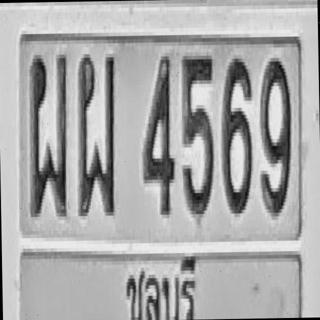A28: (27, 49, 70, 218), (75, 50, 118, 216)
N04: (142, 52, 175, 215)
N05: (180, 50, 216, 216)
N06: (220, 55, 253, 214)
N09: (258, 56, 292, 215)
P13: (120, 248, 200, 320)
